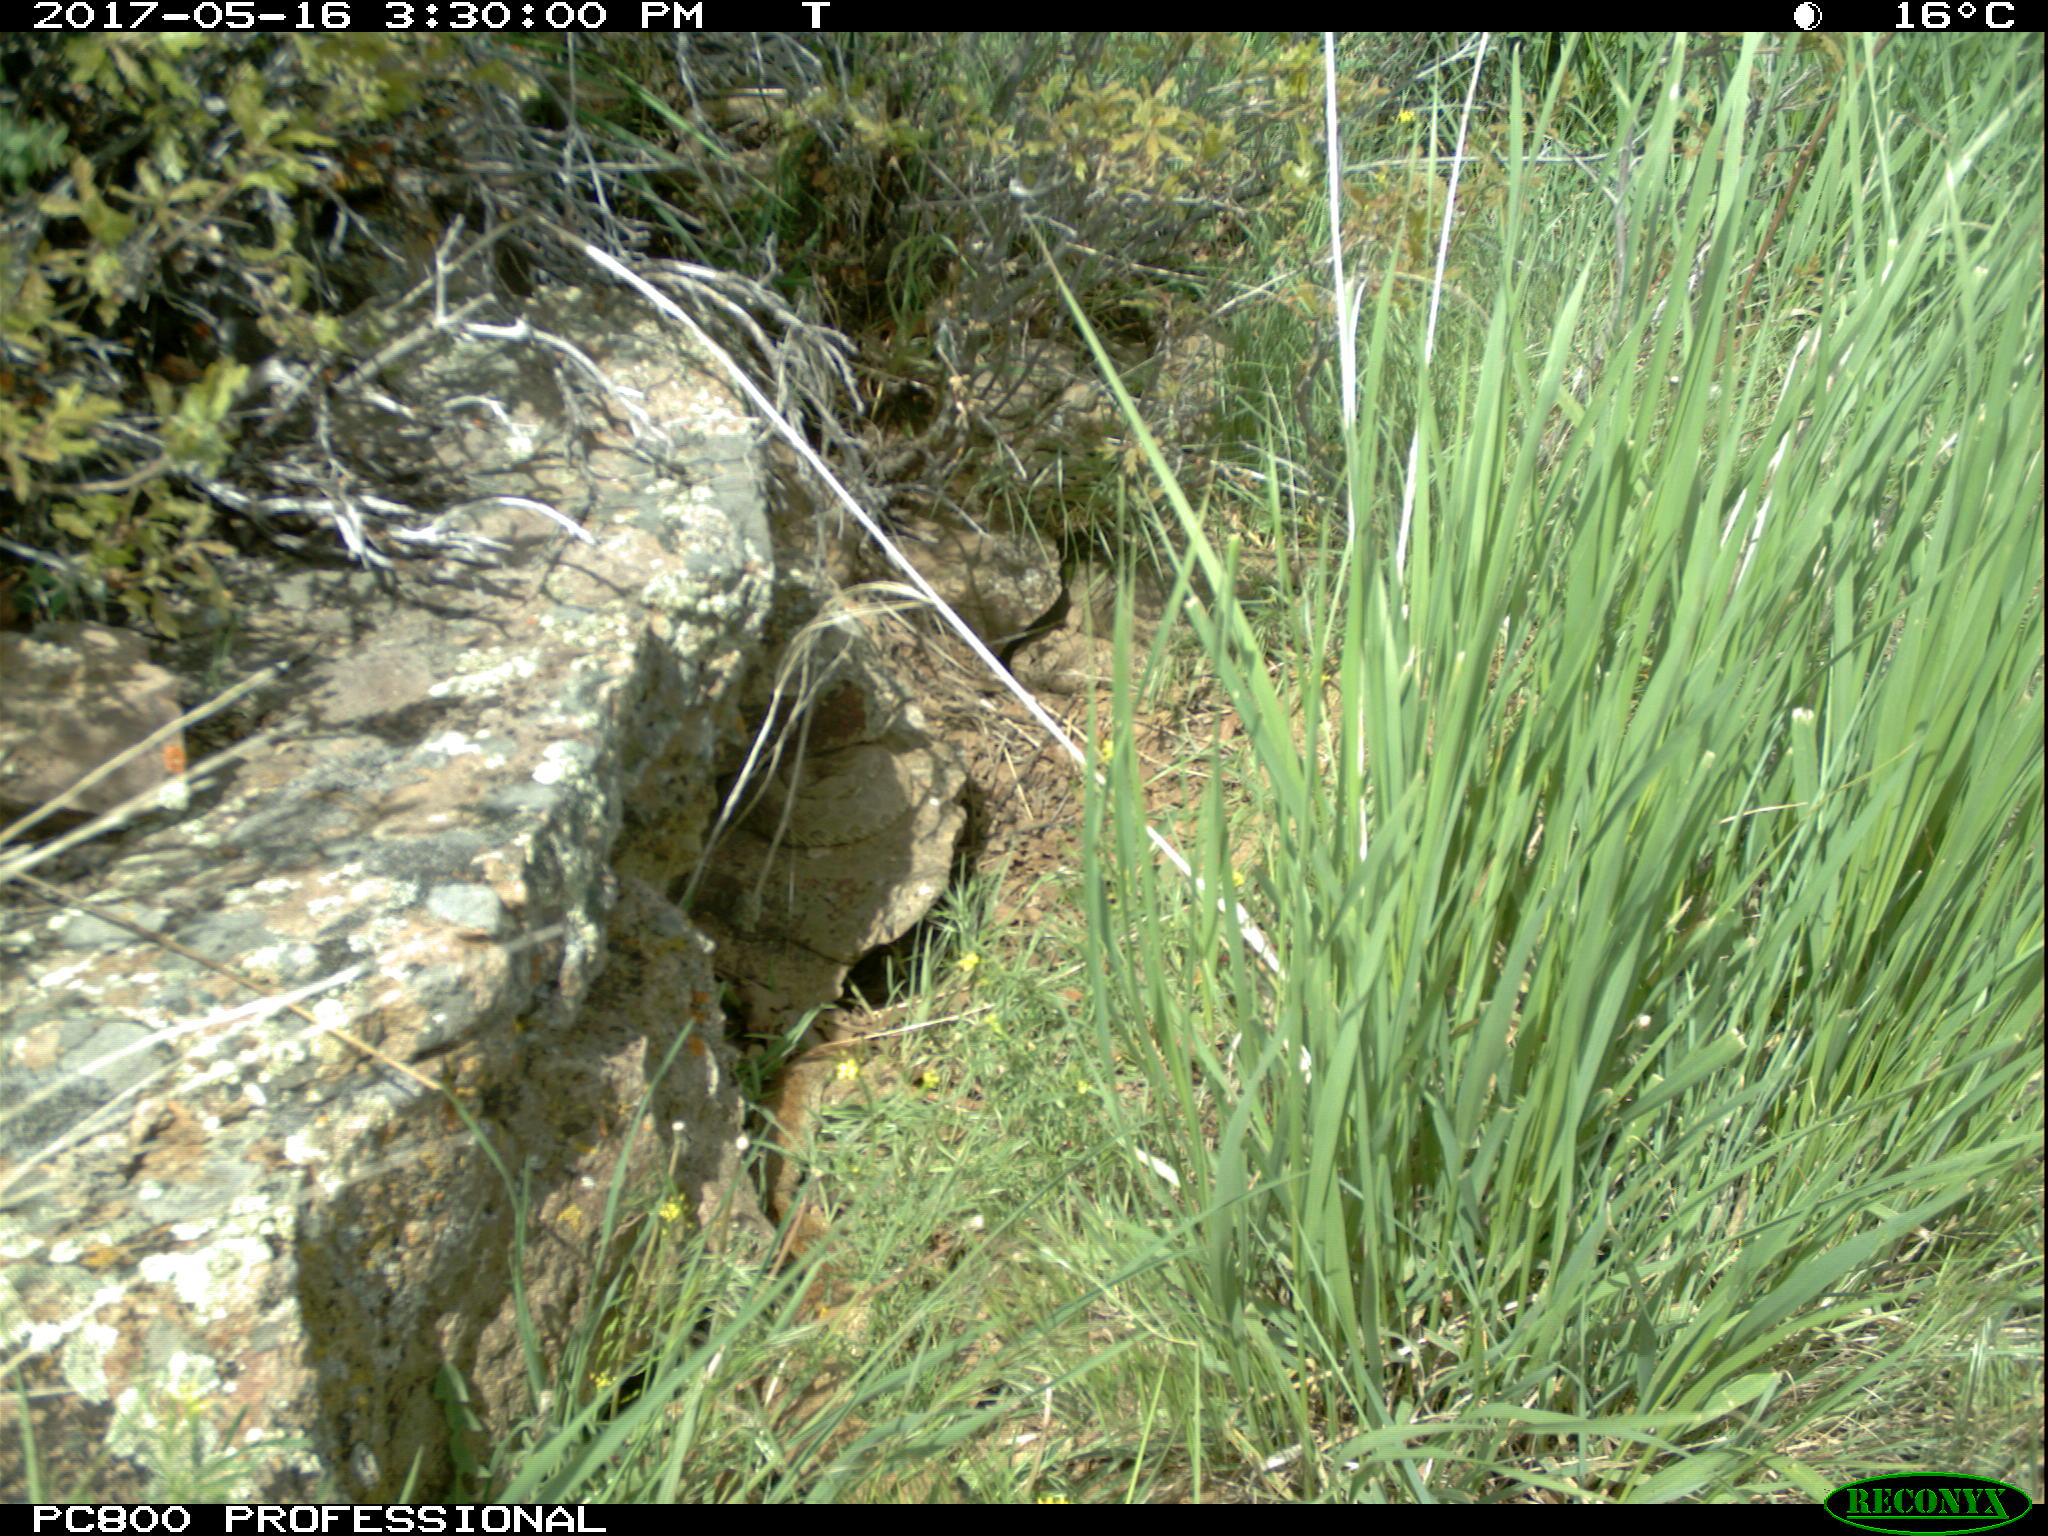snake: (763, 1034, 868, 1365), (740, 741, 918, 844), (1122, 536, 1355, 599)
